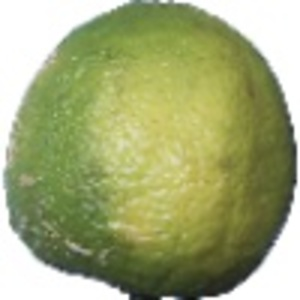limão: (2, 1, 297, 300)
